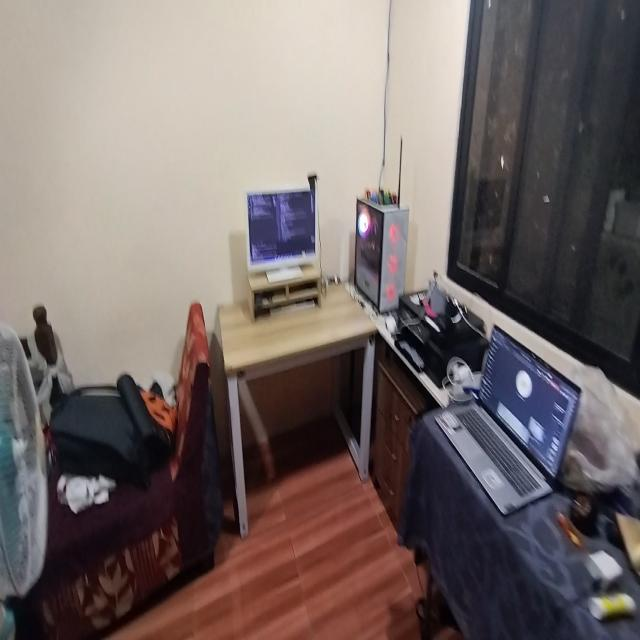table: (215, 270, 387, 535)
